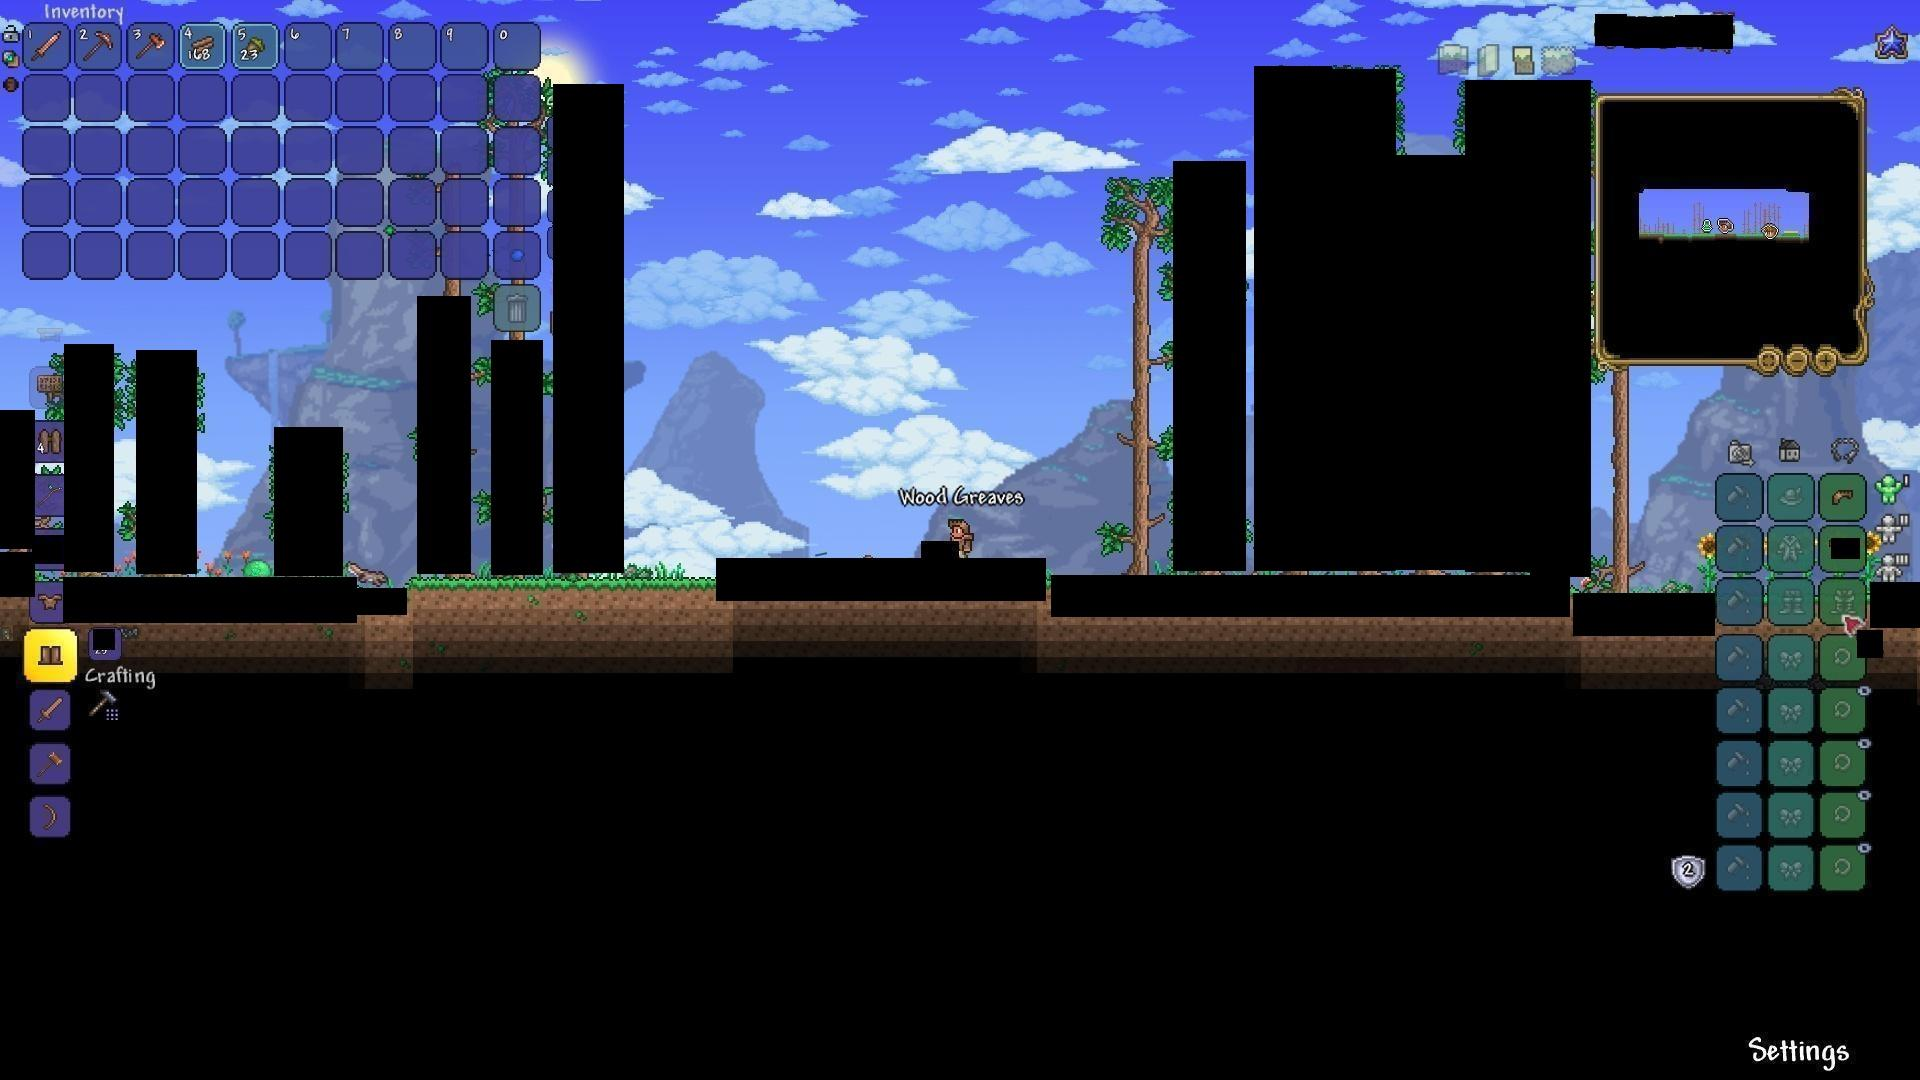breastplate: (36, 591, 62, 613)
dirt: (411, 576, 717, 615)
helmet: (1826, 483, 1858, 510)
legs: (36, 641, 65, 669)
slime: (243, 560, 269, 583)
tree: (1097, 173, 1168, 574), (1596, 363, 1640, 589)
wood: (187, 34, 216, 58)
